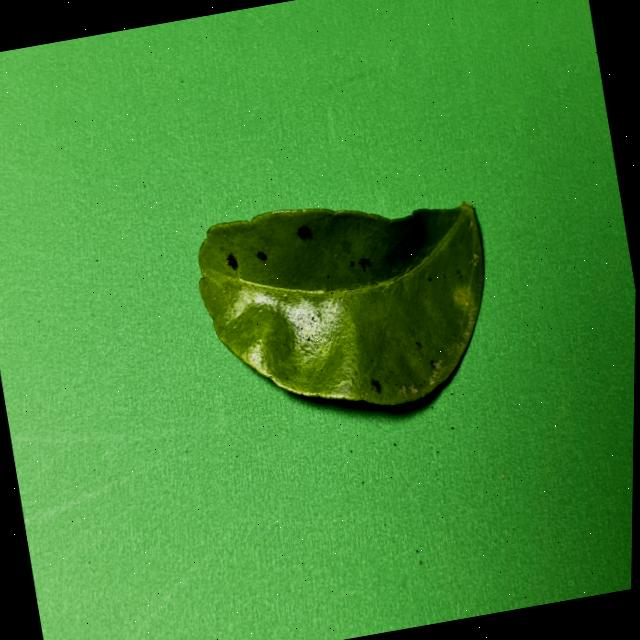sooty_mold: (198, 204, 482, 404)
